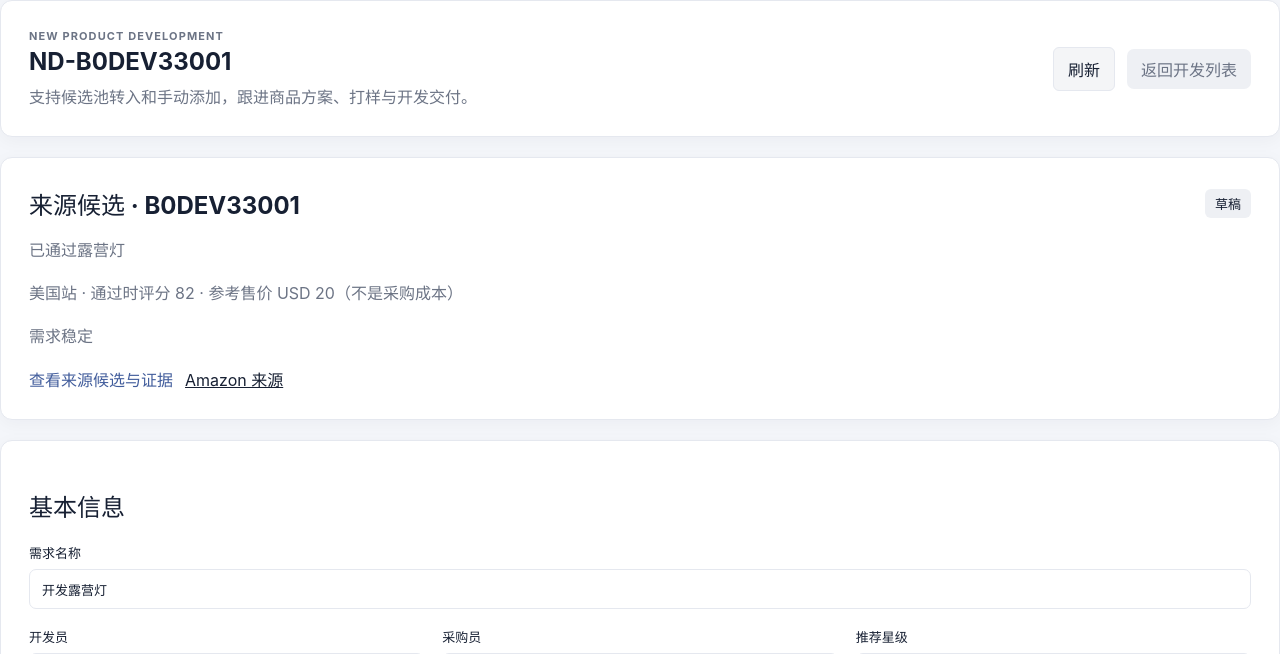
Test case: candidate-linked development › saves before transition and renders terminal requests read-only
The image size is (1280, 654).
Replace the text in the field labelled "需求名称" with "新版需求" at (640, 589), box [29, 569, 1251, 609]
(page scrolled)
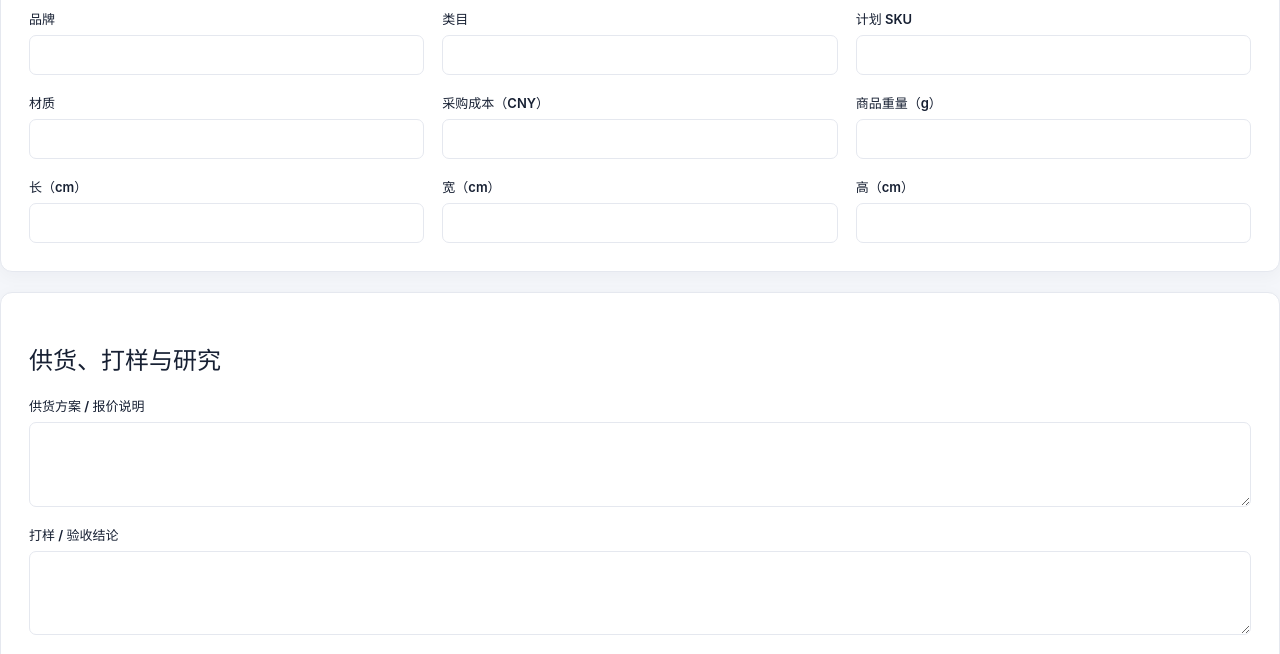
Submit the form with class "development-editor"
(page scrolled)
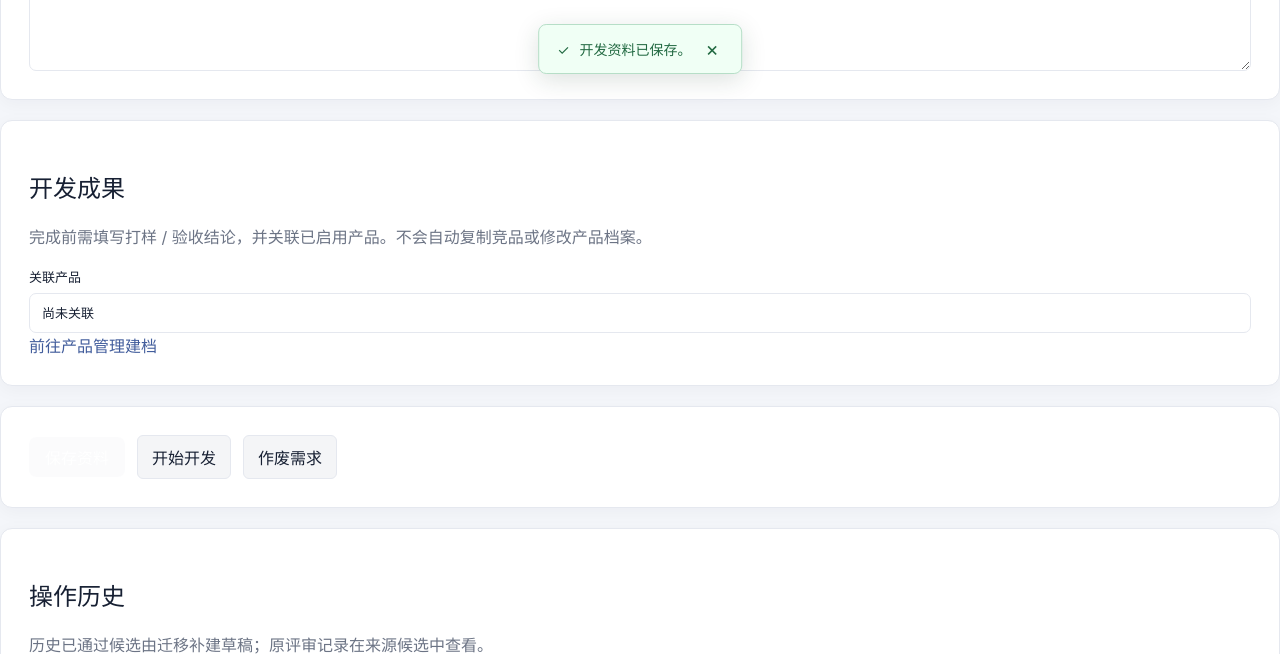
Check: the button "开始开发" is enabled, box [137, 435, 231, 479]
Click the button "作废需求" at (290, 457), box [243, 435, 337, 479]
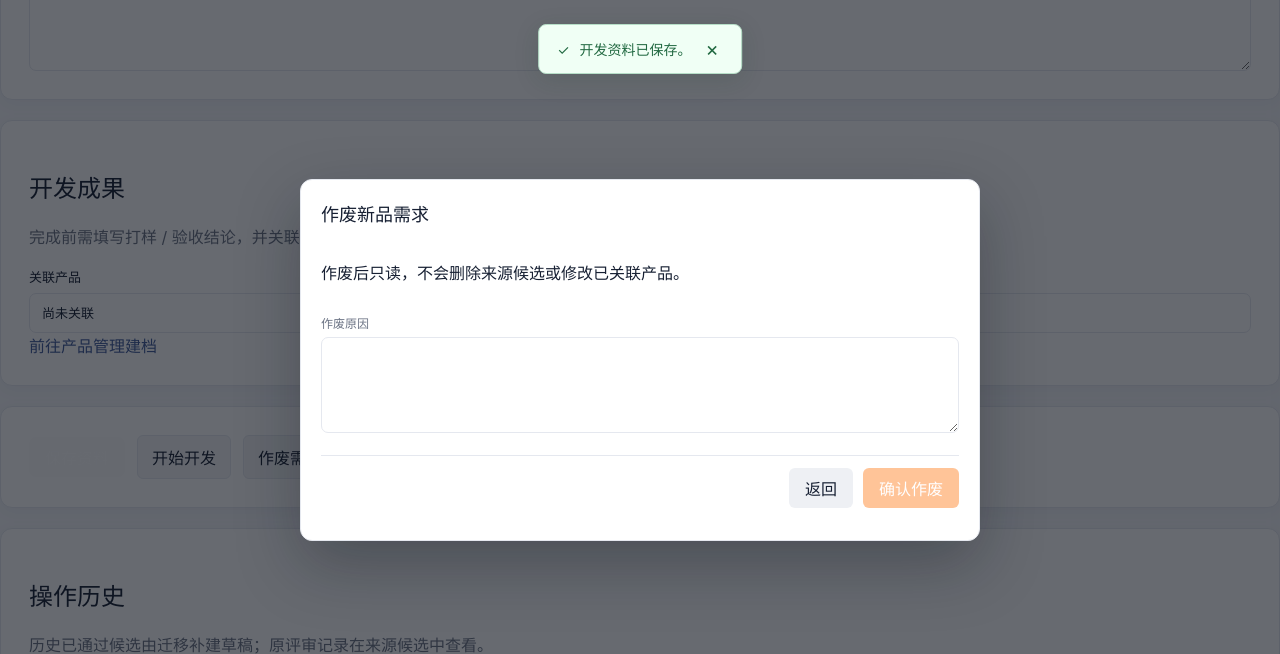
Type "取消需求" into the text box labelled "作废原因" at (640, 385), box [321, 337, 959, 433]
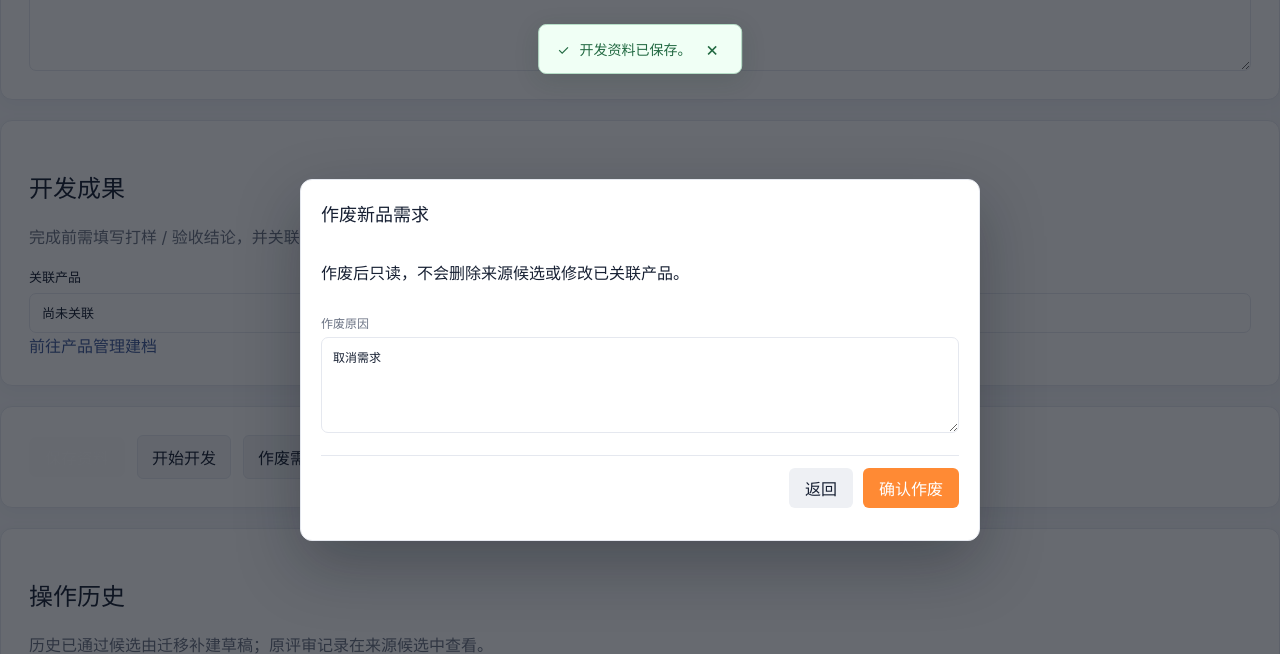
Submit the form "作废新品需求 作废后只读，不会删除来源候选或修改已关联产品。 作废原因 返回 确认作废", box [300, 179, 980, 541]
(page scrolled)
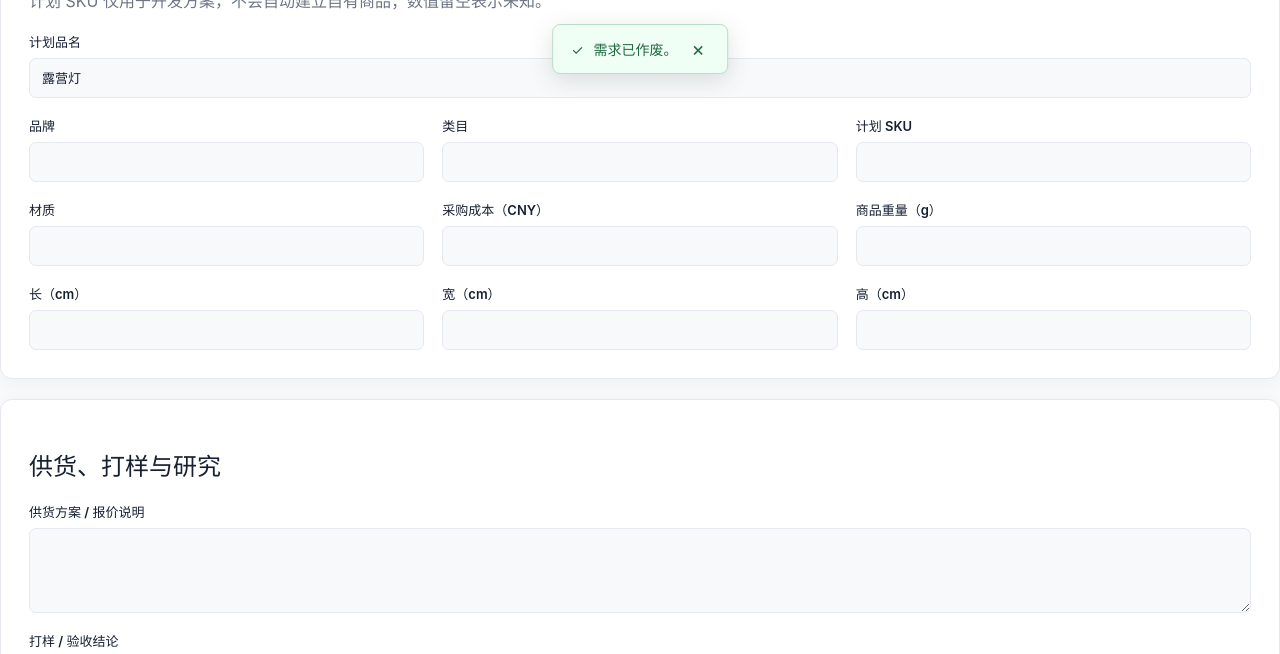
Check: the text "需求已作废。" is shown, box [594, 39, 678, 59]
